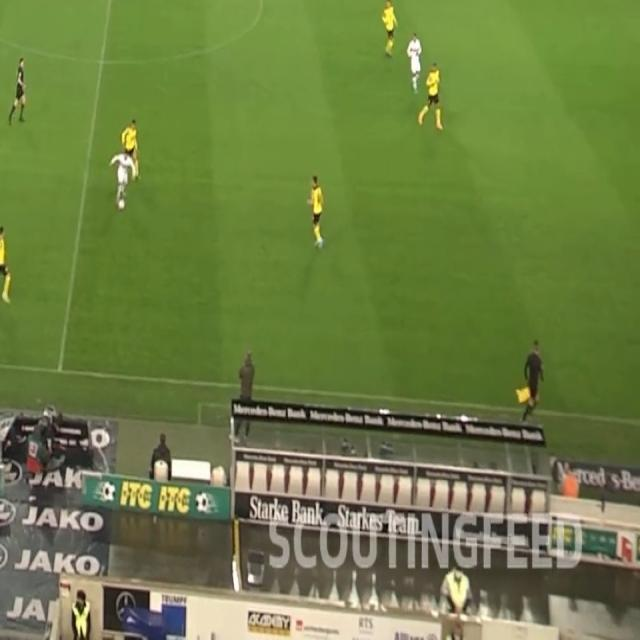ball: (118, 198, 125, 210)
